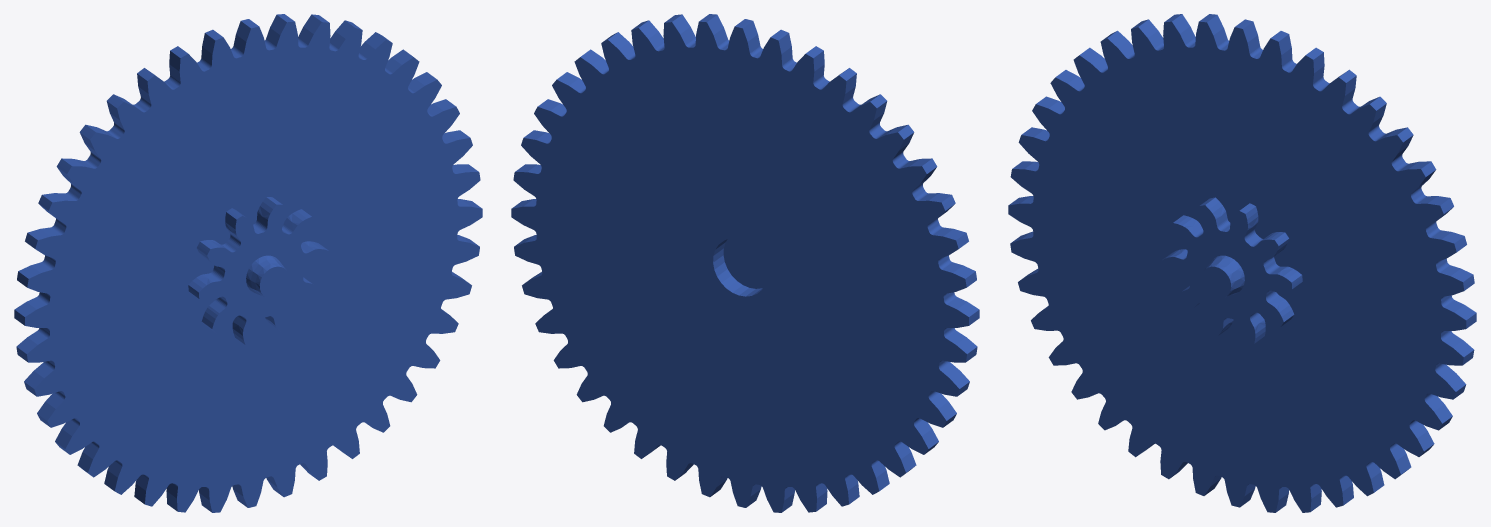
File: Spur_gear_40_teeth_2.glb
3 renders of one model, left to right at view 1: azimuth 30°, elevation 25°; view 2: azimuth 150°, elevation 25°; view 3: azimuth 330°, elevation 25°, orthographic.
Parts seen in each view (by area): view 1: Spur gear (40 teeth)_2; view 2: Spur gear (40 teeth)_2; view 3: Spur gear (40 teeth)_2.
Part boxes in pixels (x1,y1,x2,y2): Spur gear (40 teeth)_2: (14,14,482,512); Spur gear (40 teeth)_2: (511,14,979,512); Spur gear (40 teeth)_2: (1008,14,1476,512).
Bounding box in the file's own units: 25.2 × 25.2 × 3.
